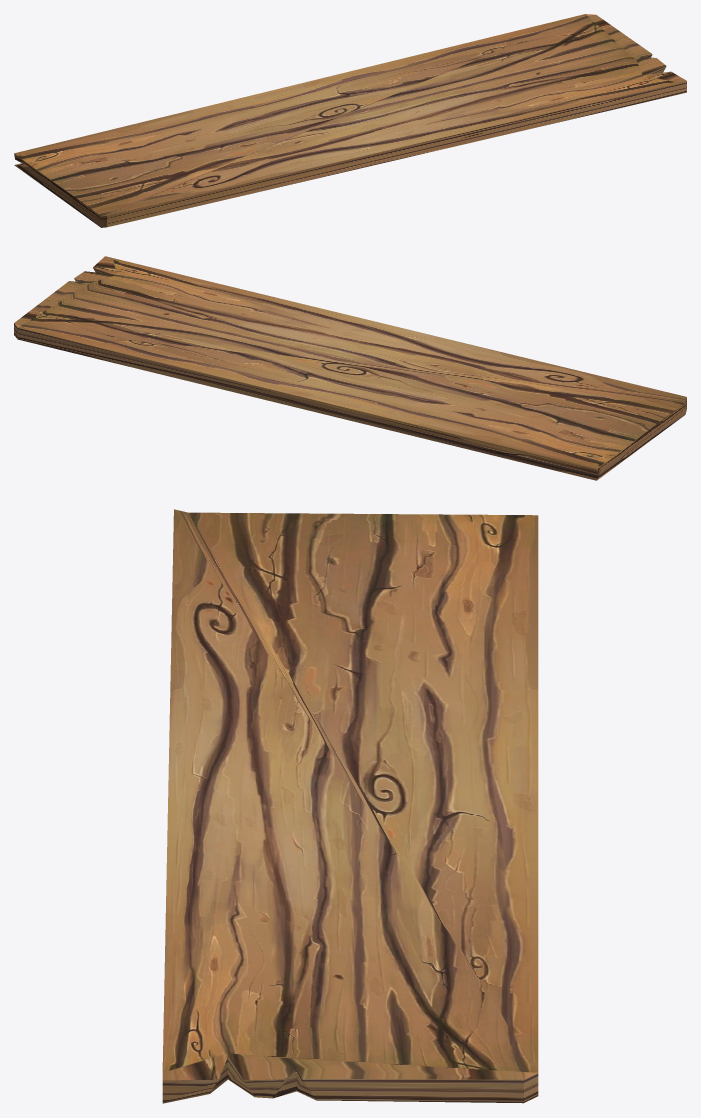
The model's file is wood.glb.
The picture shows the model from 3 angles, top to bottom: view 1: azimuth 30°, elevation 25°; view 2: azimuth 150°, elevation 25°; view 3: azimuth 270°, elevation 25°; orthographic projection. The views are drawn at different scales.
Visible parts, largest first — view 1: Cube; view 2: Cube; view 3: Cube.
Part boxes in pixels (x1,y1,x2,y2): Cube: [14, 14, 686, 227]; Cube: [14, 256, 686, 480]; Cube: [162, 509, 538, 1103].
Size of the model in its own units: 7.13 by 0.1918 by 2.
1 material, 1 textured.
